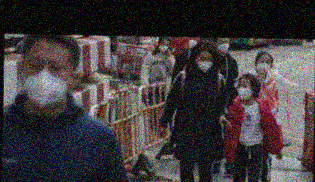with_mask: (22, 53, 71, 109), (195, 53, 213, 73), (236, 81, 252, 100), (255, 57, 271, 72), (216, 38, 230, 53), (157, 40, 169, 53), (187, 37, 198, 48)
